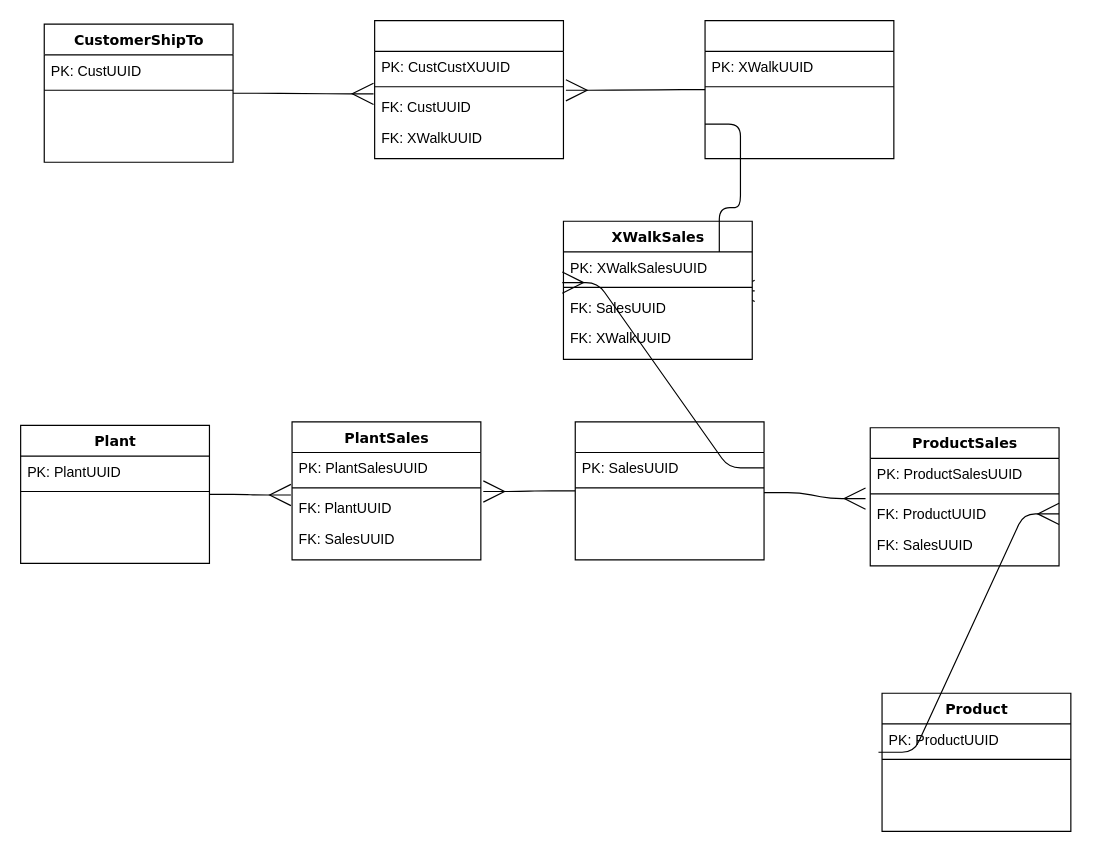
Some shapes in this 1101 by 852 pixel diagram are drawn without their labels. Each missing label, with the box of its shape:
CustCustXWalk: (373, 19, 563, 159)
CustXWalk: (704, 19, 894, 159)
SalesOrder: (574, 421, 764, 560)
